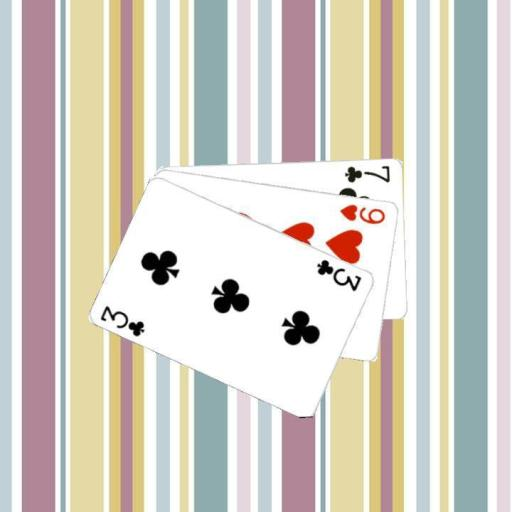card-corner: (314, 256, 364, 293), (98, 302, 146, 339), (337, 200, 388, 226), (342, 162, 392, 184)
